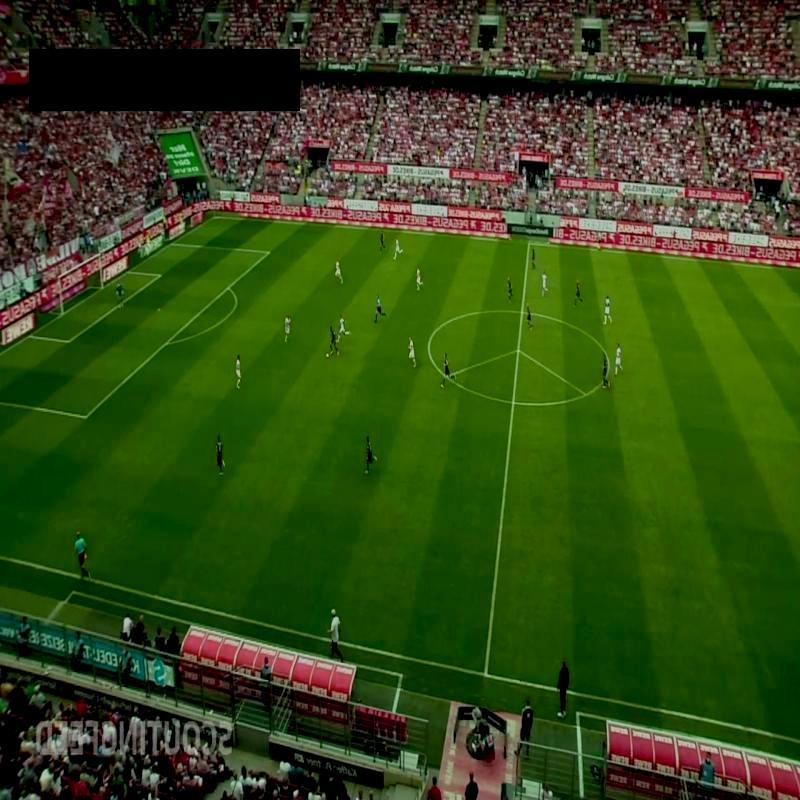1: (208, 210, 222, 224)
10: (222, 280, 236, 294)
11: (160, 336, 174, 350)
12: (80, 410, 94, 424)
13: (522, 235, 536, 249)
14: (515, 308, 530, 322)
15: (507, 397, 521, 411)
16: (476, 664, 498, 687)
2: (164, 237, 178, 251)
3: (120, 266, 134, 280)
4: (22, 328, 36, 342)
7: (152, 268, 166, 282)
8: (62, 334, 76, 348)
9: (262, 245, 276, 259)
c: (422, 334, 436, 350), (602, 358, 616, 372)
